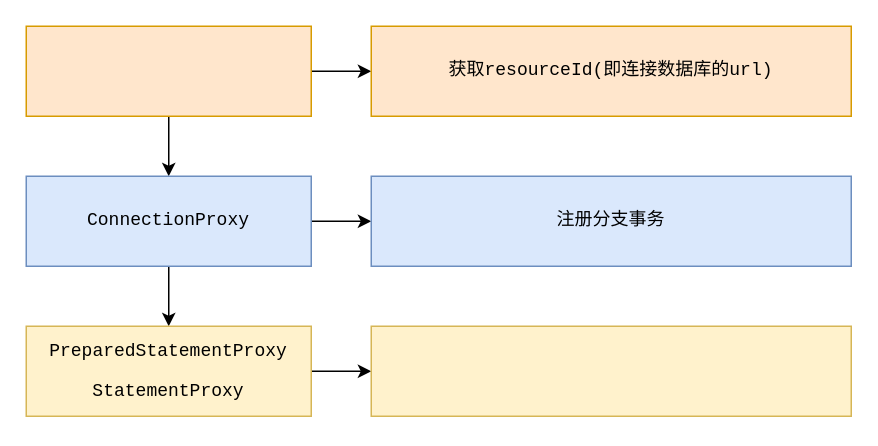
Image size: 878x446. Some labels were removed from this diagram. The shapes that lost their labels are listed below. From the top down, each one's box as (x1, y1, x2, y2) in pixels, then its label:
(25, 25, 311, 116): DataSourceProxy
(370, 325, 851, 416): 生成前置镜像，执行业务sql，生成后置镜像 将前置镜像和后置镜像保存在undolog中
